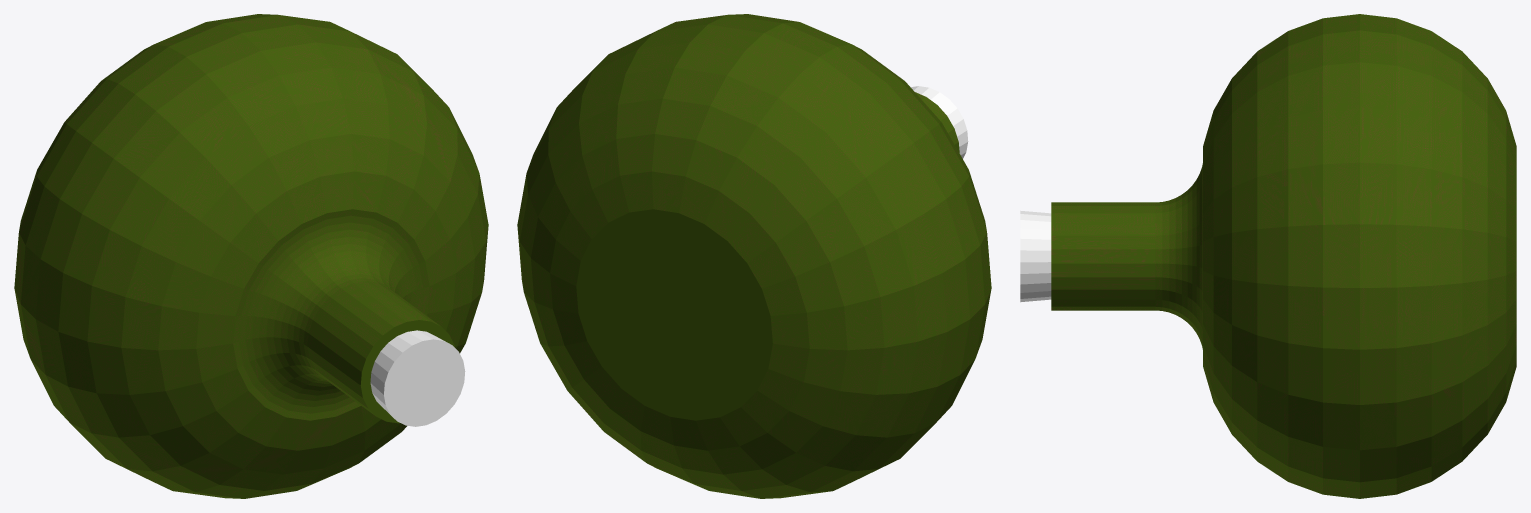
3 views of the same model, side by side, from view 1: azimuth 30°, elevation 25°; view 2: azimuth 150°, elevation 25°; view 3: azimuth 270°, elevation 25° (orthographic).
Parts seen in each view (by area): view 1: bottle; view 2: bottle; view 3: bottle.
Part boxes in pixels (x1=…): bottle: x1=14, y1=14, x2=488, y2=498; bottle: x1=517, y1=14, x2=991, y2=498; bottle: x1=1020, y1=14, x2=1516, y2=498.
Bounding box in the file's own units: 123 × 123 × 125.
